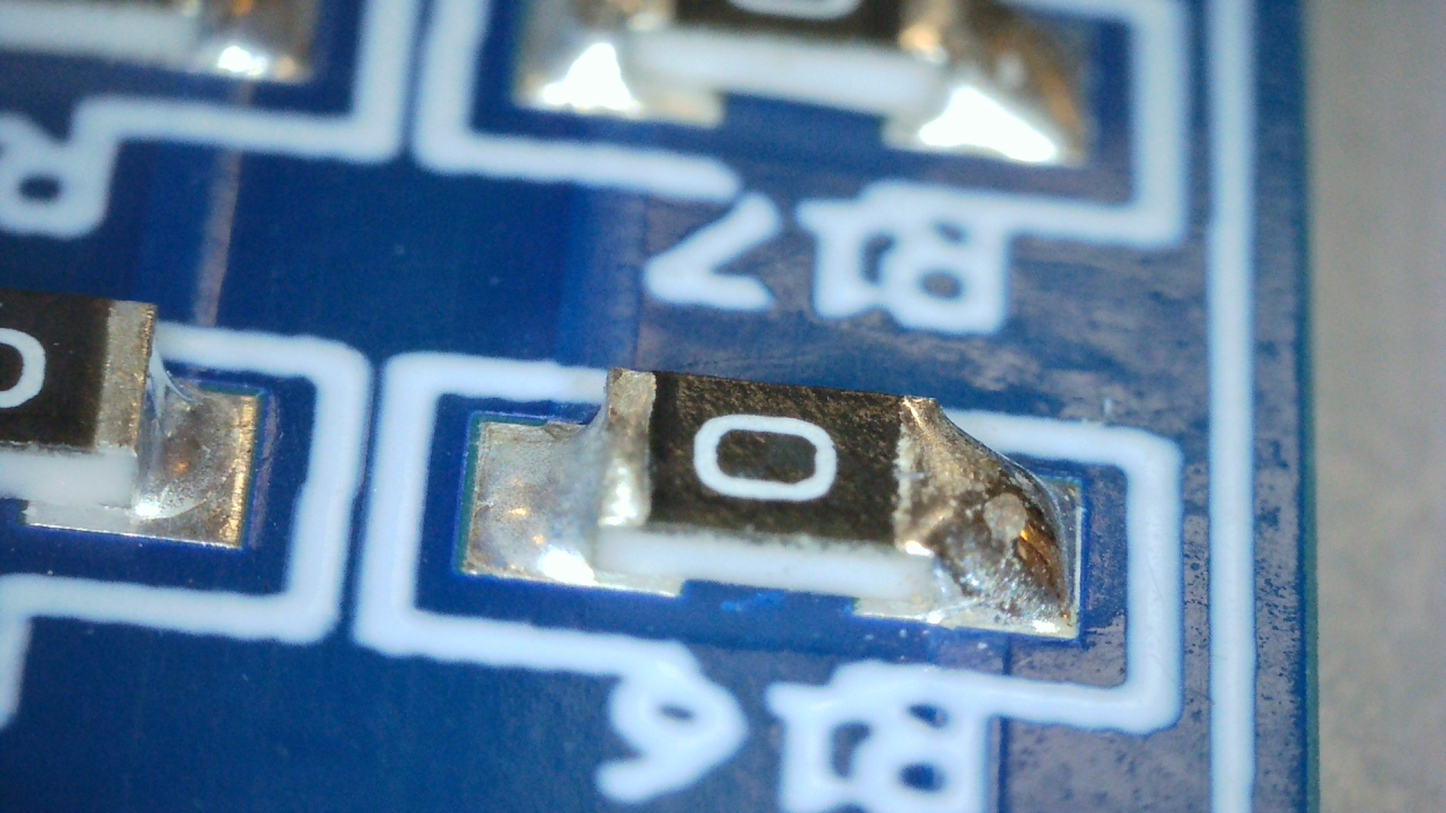NG: (891, 396, 1070, 628), (508, 369, 649, 567)
